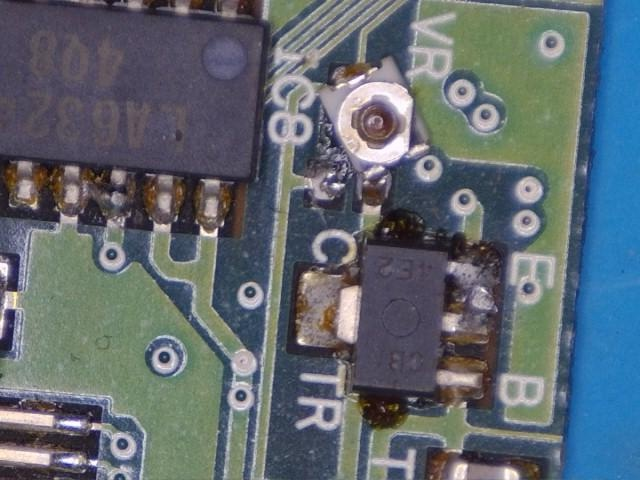pcb_defect: (311, 54, 431, 215), (440, 245, 501, 343), (50, 165, 135, 226)
